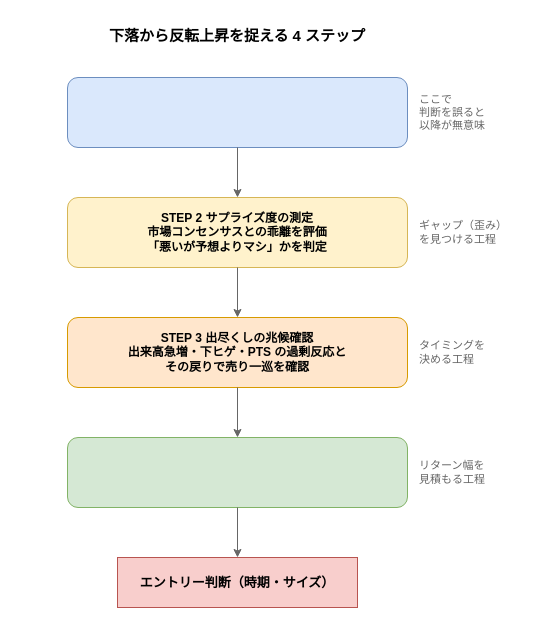
This 554x625 diagram has some shape labels left out. The shapes that lost their labels are listed below. From the top down, each one's centre as x and y in pixels, then its label:
the point at 237,112: STEP 1 ニュースの精査 一次ソース（適時開示・決算短信）で 悪材料が一過性か構造的かを切り分け
the point at 237,472: STEP 4 β値による銘柄・戦略選定 地合いと β を踏まえて 反転時の上昇パワーを見積もる
